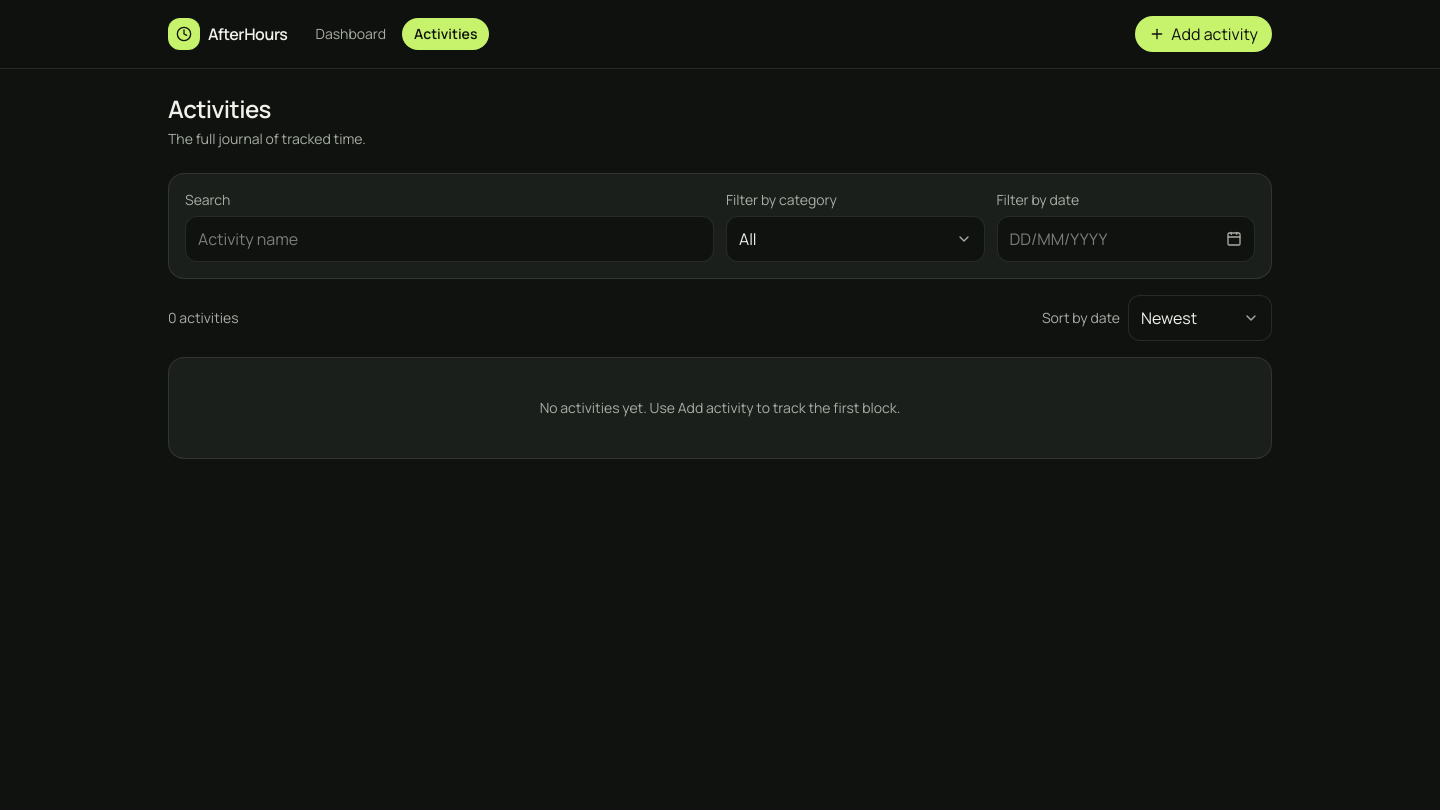
Test case: AfterHours › adds an activity and keeps it after the dialog closes
Click the button "Add activity" at (1204,34), box [1135, 16, 1272, 52]
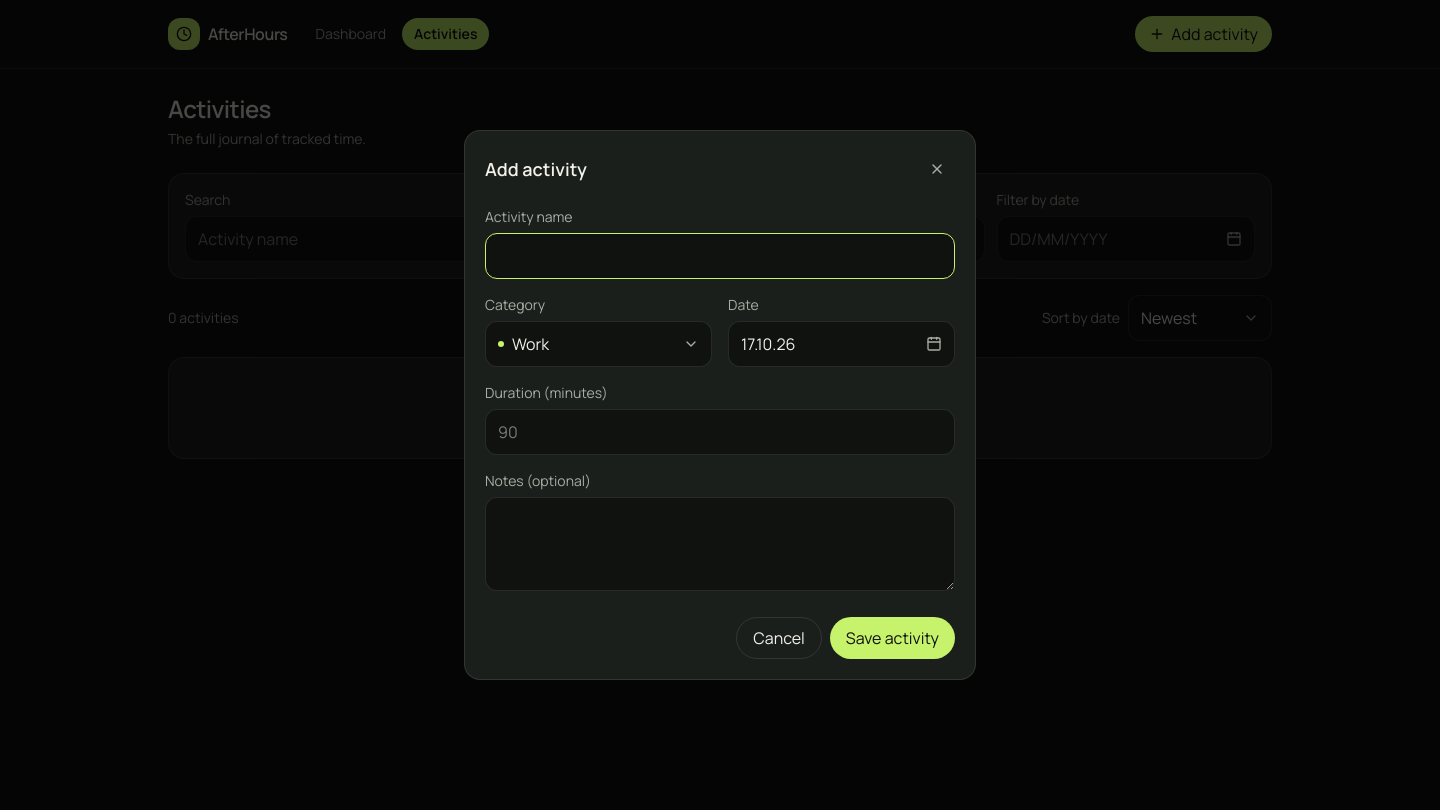
Type "Morning pages" into the field labelled "Activity name" at (720,256), box [485, 233, 955, 279]
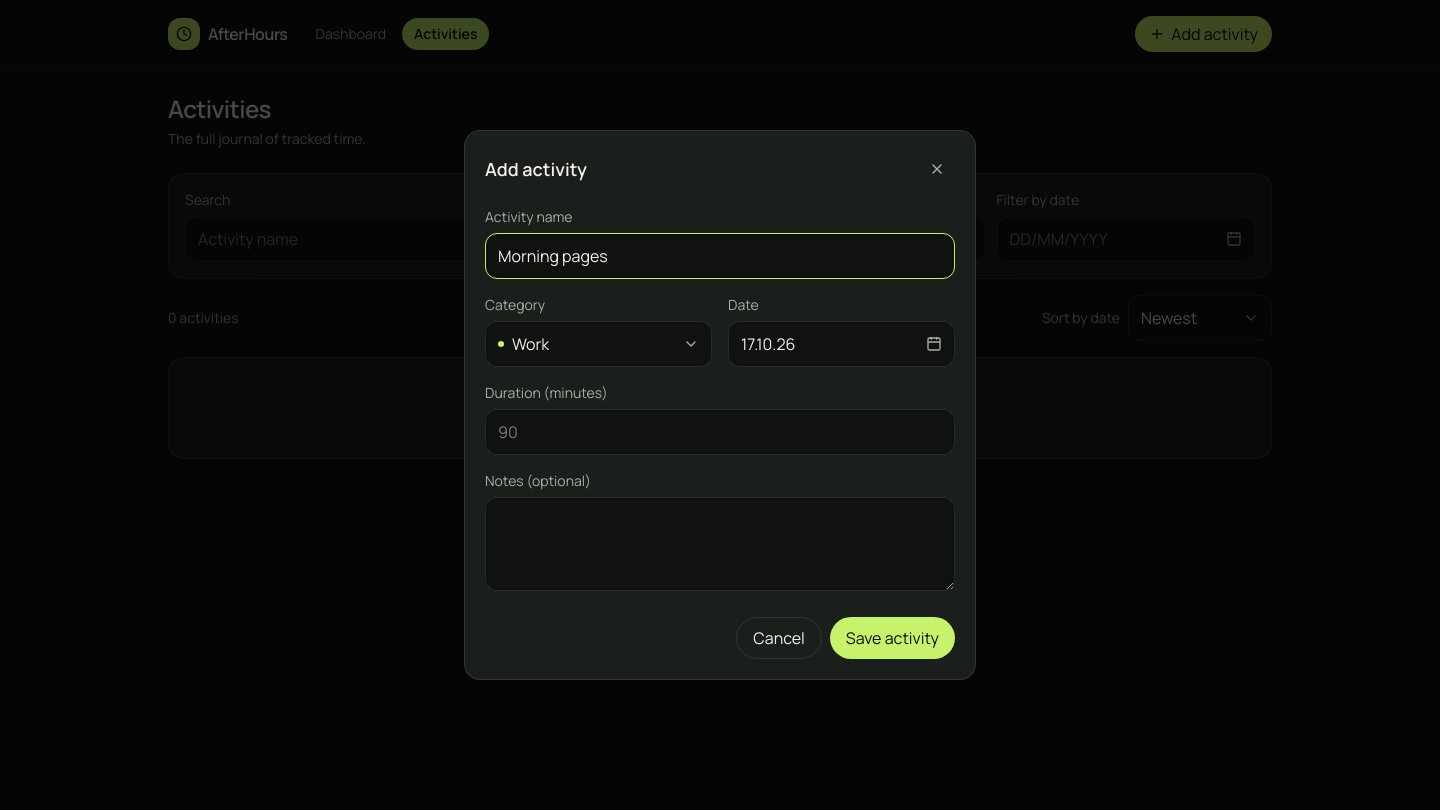
Type "35" into the number field labelled "Duration (minutes)" at (720,432), box [485, 409, 955, 455]
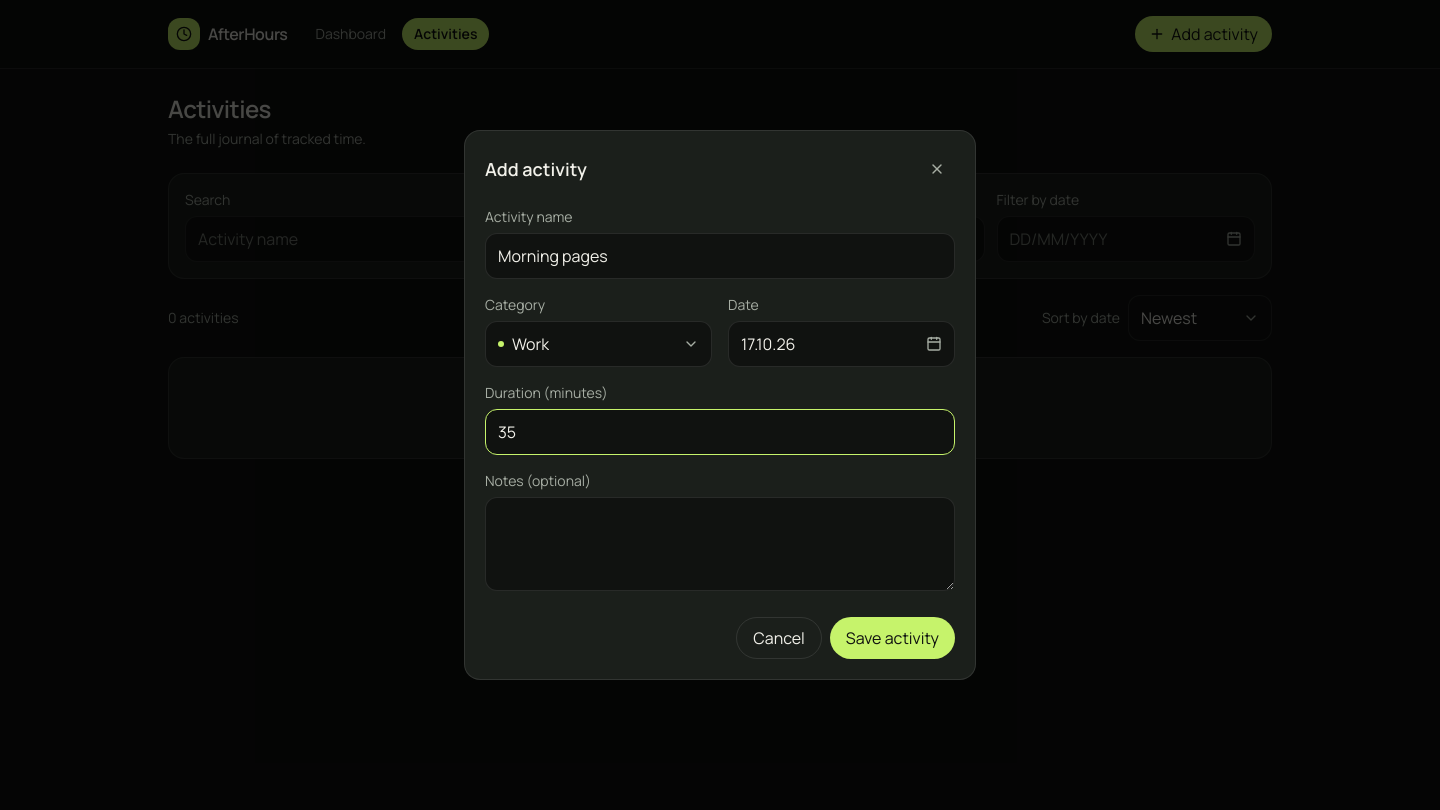
Click the button "Save activity" at (892,638), box [830, 617, 955, 659]
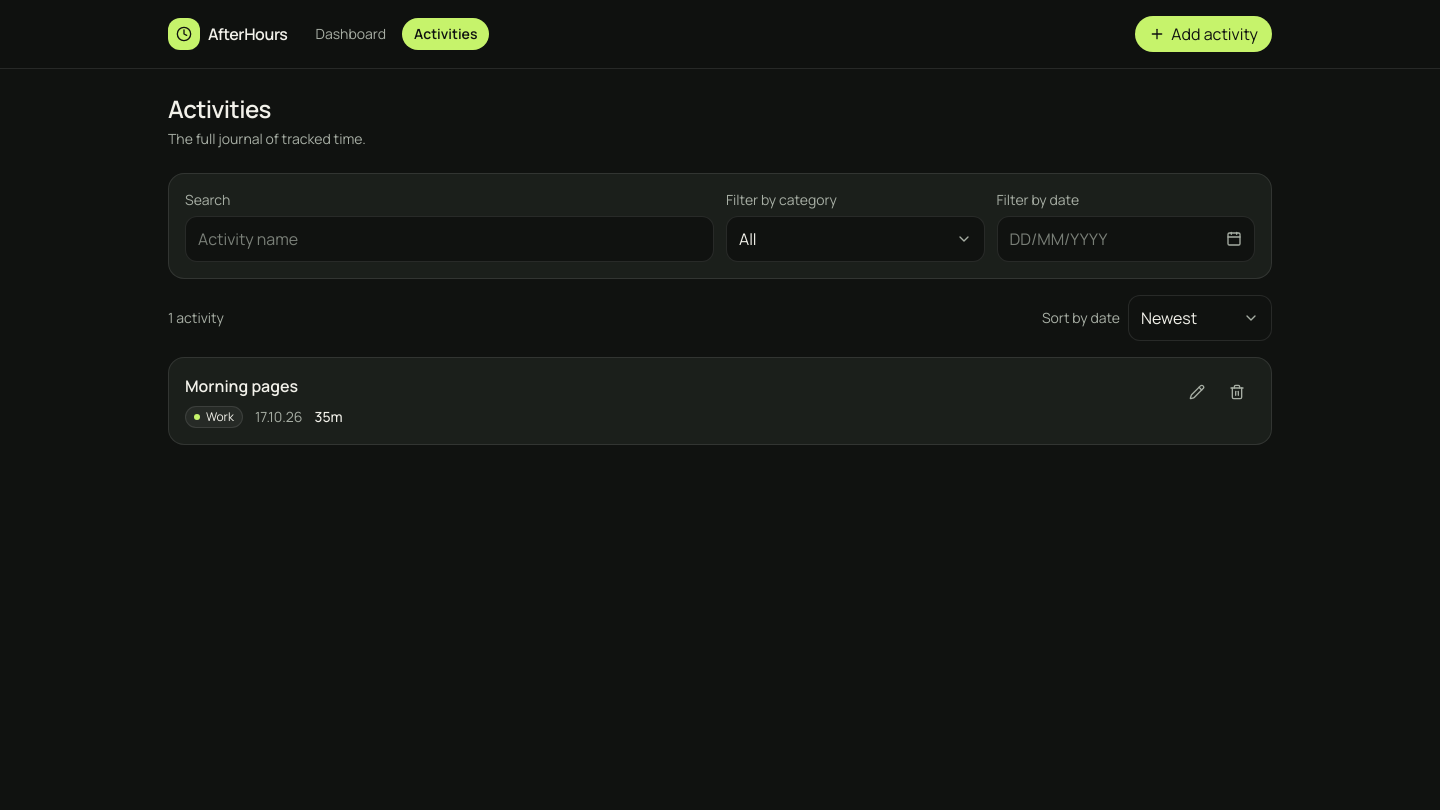
Result: the heading "Morning pages" is shown at [185, 375, 298, 397]
Result: the text "35m" is shown at [314, 407, 343, 427]
